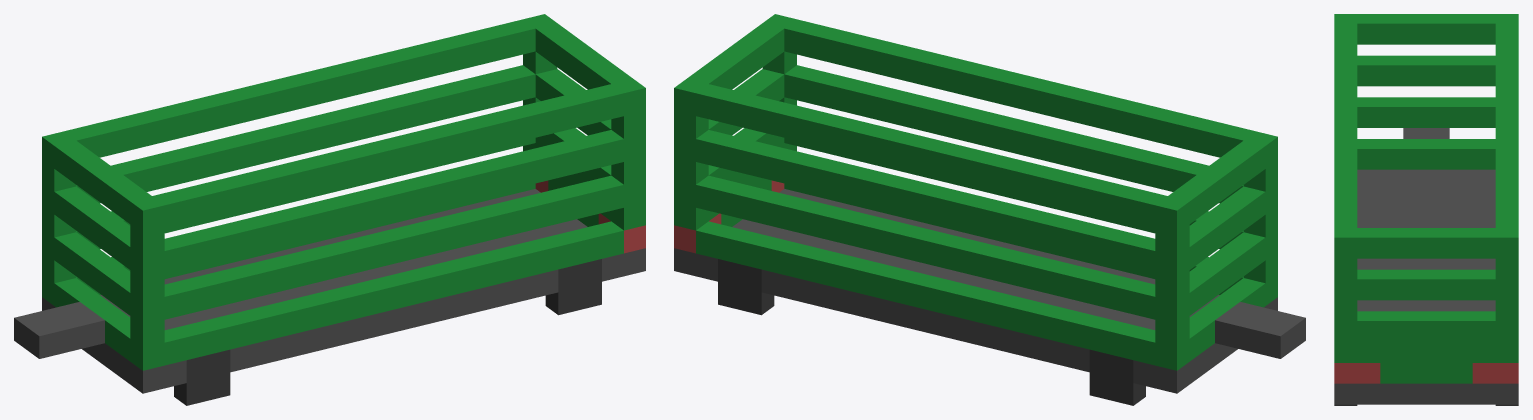
The model's file is tractor-trailer-v2-green.gltf.
3 renders of one model, left to right at view 1: azimuth 30°, elevation 25°; view 2: azimuth 150°, elevation 25°; view 3: azimuth 270°, elevation 25°, orthographic. The views are drawn at different scales.
Visible parts, largest first — view 1: model, wheels; view 2: model, wheels; view 3: model.
Boxes of the visible parts, <box> form: model: <box>14,14,645,405</box>; wheels: <box>174,259,601,404</box>; model: <box>674,14,1305,405</box>; wheels: <box>718,261,1145,405</box>; model: <box>1334,14,1518,405</box>.
Bounding box in the file's own units: 2.6 × 0.9 × 0.8.
Materials: 2 (2 with a texture image).
